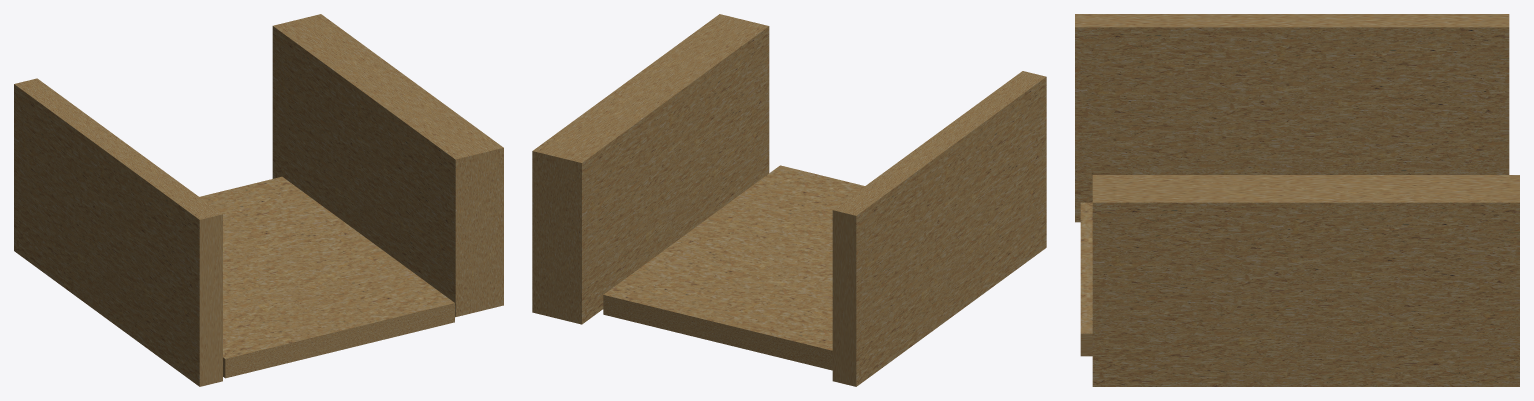
File: pared.FBX
3 renders of one model, left to right at view 1: azimuth 30°, elevation 25°; view 2: azimuth 150°, elevation 25°; view 3: azimuth 270°, elevation 25°, orthographic. The views are drawn at different scales.
Parts seen in each view (by area): view 1: Box002, Box003, Box001; view 2: Box002, Box003, Box001; view 3: Box002, Box003, Box001.
Part boxes in pixels (left/top/right/bottom): Box002: left=272, top=14, right=503, bottom=317; Box003: left=14, top=78, right=222, bottom=386; Box001: left=199, top=176, right=454, bottom=378; Box002: left=532, top=14, right=769, bottom=324; Box003: left=832, top=71, right=1046, bottom=386; Box001: left=603, top=165, right=864, bottom=370; Box002: left=1092, top=175, right=1519, bottom=386; Box003: left=1075, top=14, right=1509, bottom=222; Box001: left=1080, top=202, right=1092, bottom=356.
Bounding box in the file's own units: 54.04 × 27.68 × 57.14.
Materials: 1 (1 with a texture image).
